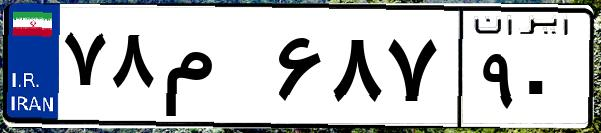0: (525, 38, 570, 115)
6: (270, 28, 330, 110)
7: (385, 28, 445, 110), (57, 26, 110, 100)
8: (330, 28, 385, 110), (110, 28, 158, 98)
9: (475, 38, 525, 113)
م: (158, 20, 270, 120)
